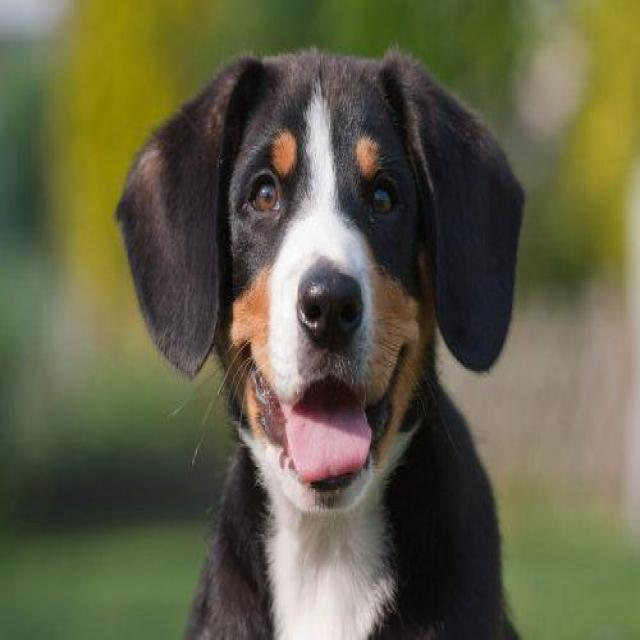Dog: (109, 35, 533, 531)
